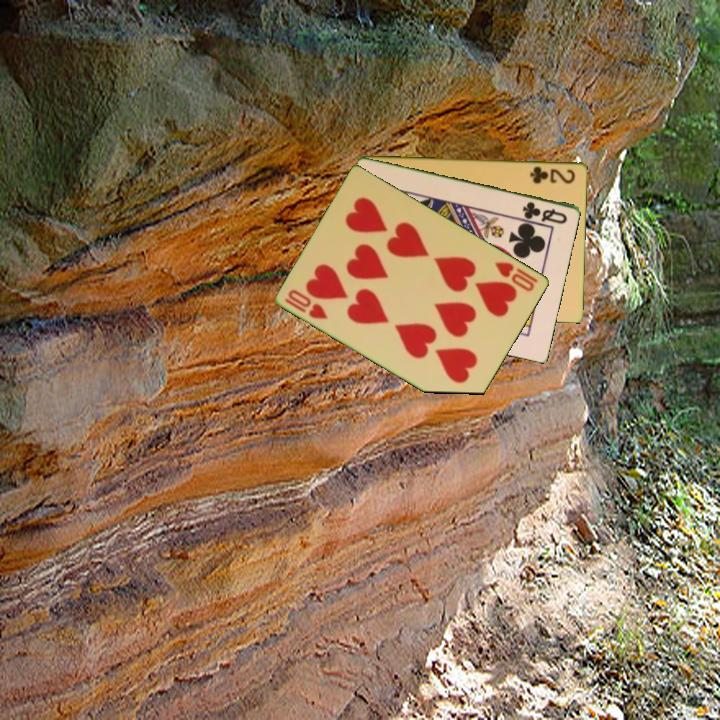10h: (281, 285, 331, 322), (491, 258, 541, 294)
2c: (527, 162, 578, 186)
Qc: (519, 198, 571, 227)
